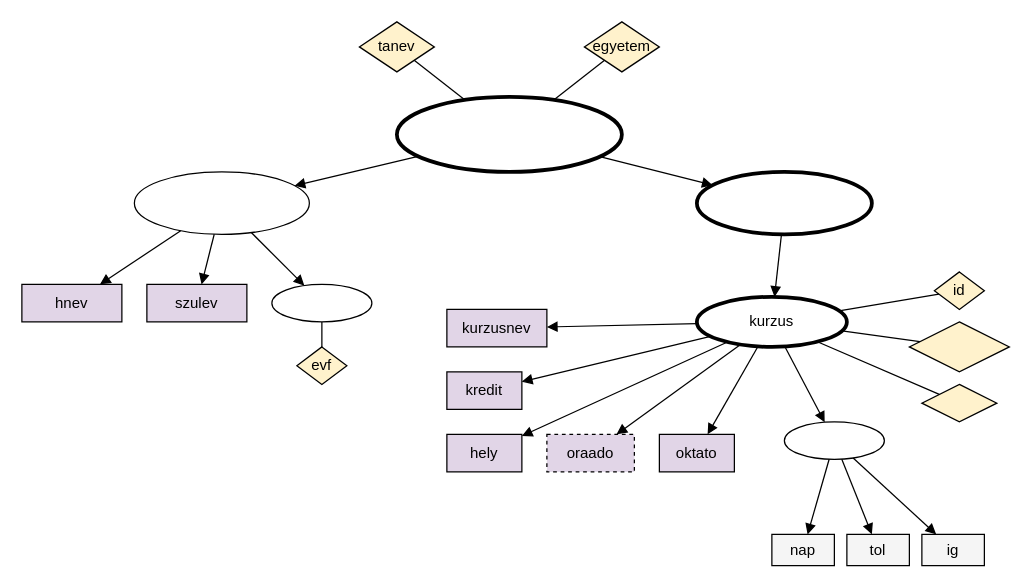
This 1031x588 diagram has some shape labels left out. Here are the shapes that lost their labels. From the top down, the box of each, then its label:
(394, 94, 623, 173): XGBT95_kurzusfelvetel
(133, 171, 309, 234): hallgato
(694, 169, 873, 236): kurzusok
(271, 283, 372, 322): szak
(908, 321, 1009, 372): jovahagyas
(921, 383, 997, 422): nyelv
(783, 421, 884, 459): idopont
